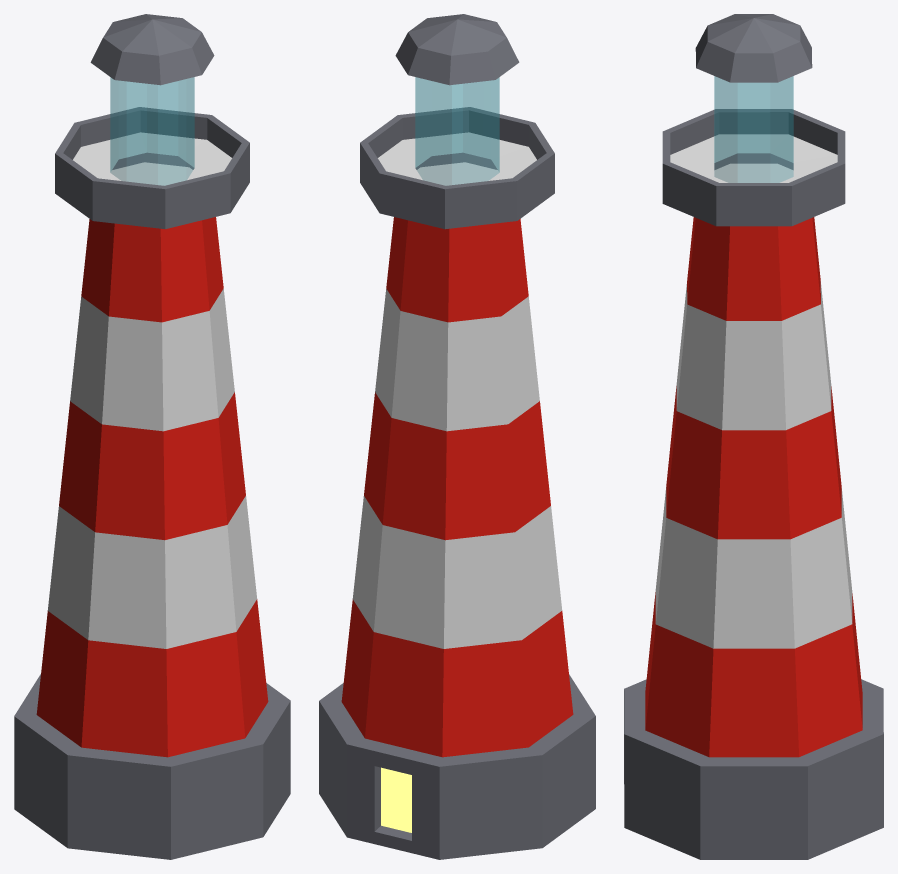
Rendered from red_lighthouse_fixed.fbx.
3 views of the same model, side by side, from view 1: azimuth 30°, elevation 25°; view 2: azimuth 150°, elevation 25°; view 3: azimuth 270°, elevation 25° (orthographic).
Parts seen in each view (by area): view 1: PHARE ROUGE; view 2: PHARE ROUGE; view 3: PHARE ROUGE.
Part boxes in pixels (x1,y1,x2,y2): PHARE ROUGE: (14, 14, 290, 859); PHARE ROUGE: (319, 14, 595, 859); PHARE ROUGE: (624, 14, 883, 859).
Size of the model in its own units: 179 by 600 by 179.
